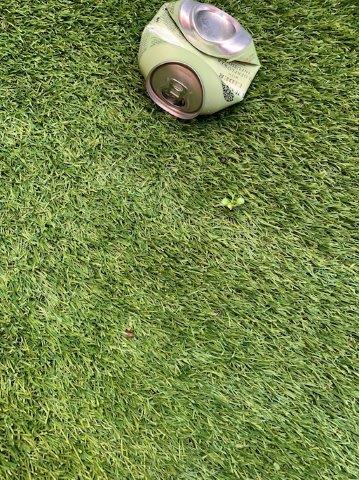kaleng: (140, 1, 260, 119)
